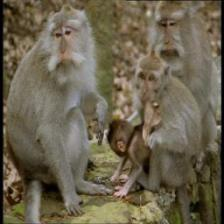monkey: (40, 13, 87, 81), (156, 9, 184, 65), (132, 64, 163, 108)
